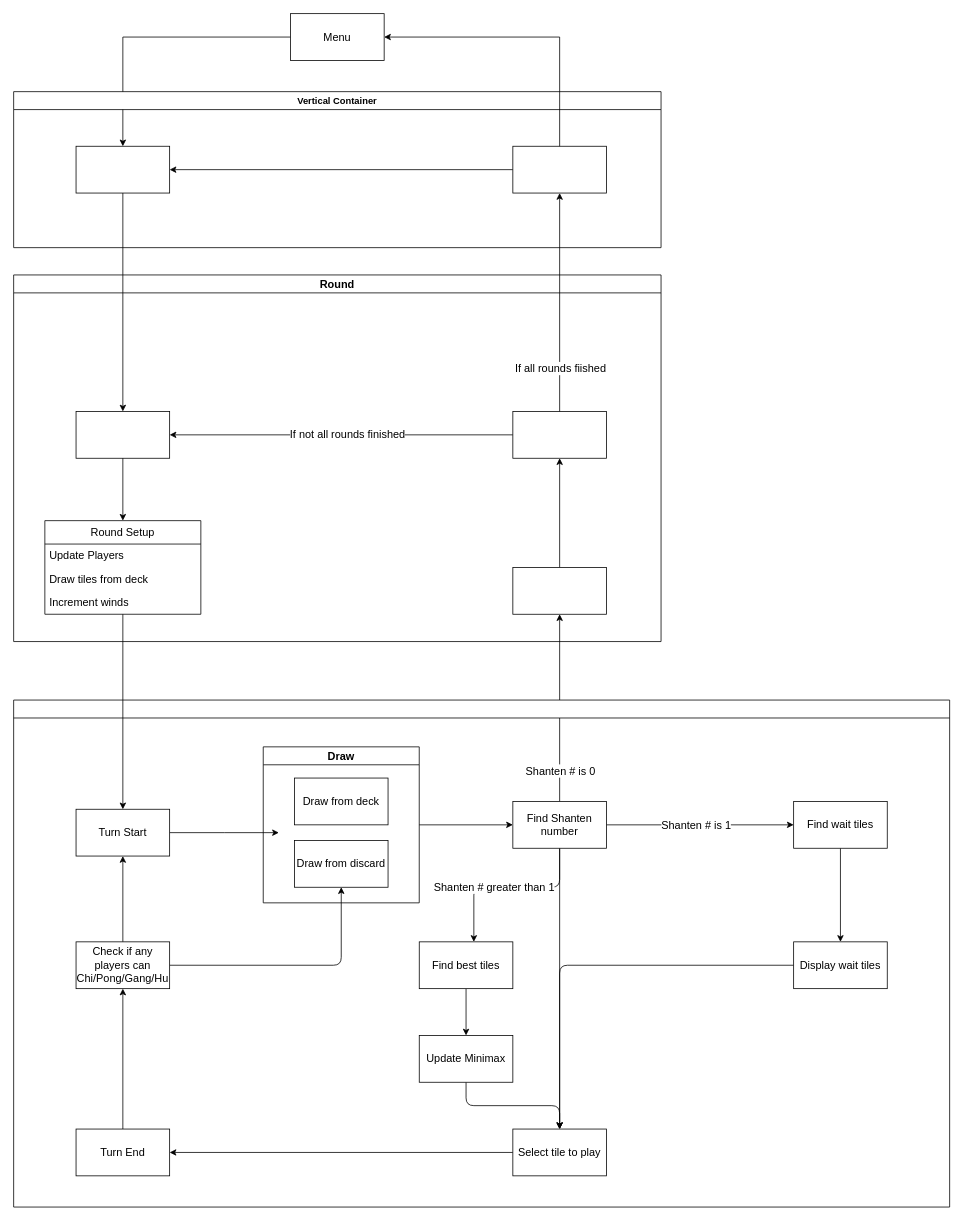
This 963x1221 diagram has some shape labels left out. Each missing label, with the centre of its shape:
"Calculate Points" belongs at point 559,434.
"Game End" belongs at point 559,169.
"Gams Start" belongs at point 122,169.
"Round end" belongs at point 559,590.
"Round Start" belongs at point 122,434.
"Turn Loop" belongs at point 481,953.
